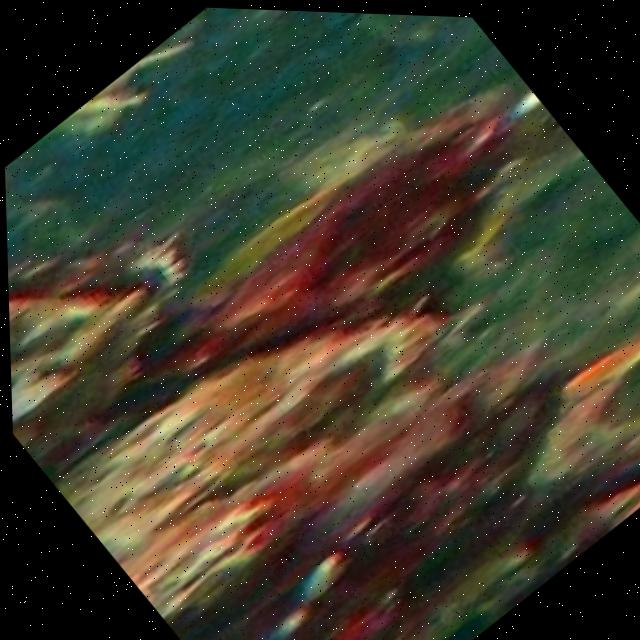Oyster-Indeterminate: (44, 317, 443, 629), (173, 100, 511, 367)
Oyster-Open: (8, 241, 190, 460)
